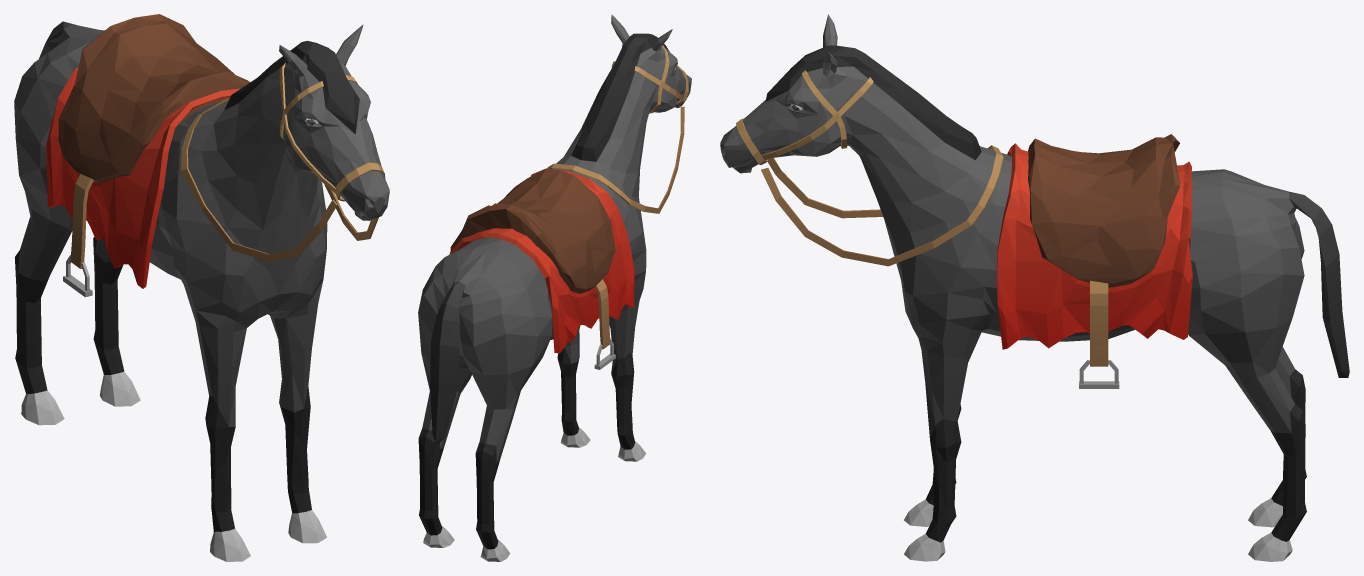
The model's file is horse black.fbx.
3 renders of one model, left to right at view 1: azimuth 30°, elevation 25°; view 2: azimuth 150°, elevation 25°; view 3: azimuth 270°, elevation 25°, orthographic. The views are drawn at different scales.
Visible parts, largest first — view 1: horse black; view 2: horse black; view 3: horse black.
Boxes of the visible parts, x1,y1,x2,y2 form: horse black: (14,14,389,561); horse black: (418,14,691,561); horse black: (720,14,1349,561).
Bounding box in the file's own units: 77.65 × 203 × 229.
